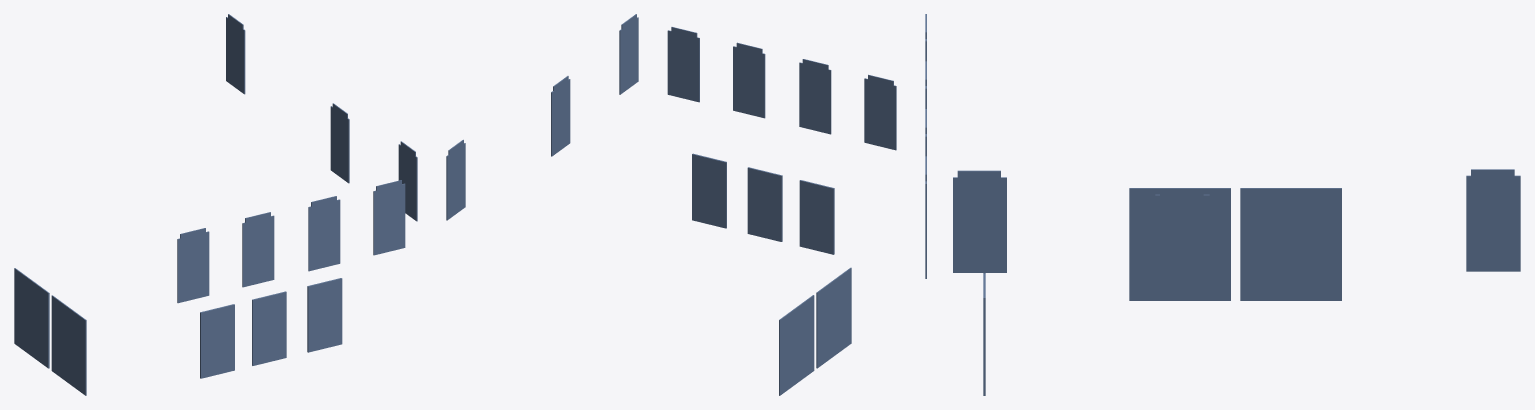
Rendered from Ventanas.obj.
The picture shows the model from 3 angles, left to right: view 1: azimuth 30°, elevation 25°; view 2: azimuth 150°, elevation 25°; view 3: azimuth 270°, elevation 25°; orthographic projection. The views are drawn at different scales.
Parts seen in each view (by area): view 1: Ventanas:polySurface73pCube9, Ventanas:polySurface76pCube8, Ventanas:polySurface254, Ventanas:polySurface254polySurface78, Ventanas:polySurface254polySurface14, Ventanas:polySurface84, Ventanas:polySurface17, Ventanas:polySurface85, Ventanas:polySurface83, Ventanas:polySurface87, Ventanas:polySurface88, Ventanas:polySurface86; view 2: Ventanas:polySurface76pCube8, Ventanas:polySurface73pCube9, Ventanas:polySurface254polySurface14, Ventanas:polySurface254polySurface78, Ventanas:polySurface254, Ventanas:polySurface83, Ventanas:polySurface84, Ventanas:polySurface85, Ventanas:polySurface17, Ventanas:polySurface86, Ventanas:polySurface87, Ventanas:polySurface88; view 3: Ventanas:polySurface73pCube9, Ventanas:polySurface76pCube8, Ventanas:polySurface88, Ventanas:polySurface87, Ventanas:polySurface86.
Part boxes in pixels (bbox=[...]): Ventanas:polySurface73pCube9: bbox=[14, 268, 49, 368]; Ventanas:polySurface76pCube8: bbox=[51, 295, 86, 395]; Ventanas:polySurface254: bbox=[307, 278, 342, 352]; Ventanas:polySurface254polySurface78: bbox=[252, 291, 286, 365]; Ventanas:polySurface254polySurface14: bbox=[200, 304, 234, 378]; Ventanas:polySurface84: bbox=[308, 196, 340, 271]; Ventanas:polySurface17: bbox=[177, 228, 209, 303]; Ventanas:polySurface85: bbox=[373, 180, 405, 255]; Ventanas:polySurface83: bbox=[242, 212, 274, 287]; Ventanas:polySurface87: bbox=[226, 14, 245, 94]; Ventanas:polySurface88: bbox=[330, 103, 349, 183]; Ventanas:polySurface86: bbox=[398, 141, 417, 221]; Ventanas:polySurface76pCube8: bbox=[816, 267, 851, 368]; Ventanas:polySurface73pCube9: bbox=[779, 295, 814, 395]; Ventanas:polySurface254polySurface14: bbox=[799, 180, 834, 254]; Ventanas:polySurface254polySurface78: bbox=[747, 167, 782, 241]; Ventanas:polySurface254: bbox=[692, 153, 726, 228]; Ventanas:polySurface83: bbox=[799, 59, 831, 134]; Ventanas:polySurface84: bbox=[733, 42, 765, 118]; Ventanas:polySurface85: bbox=[667, 27, 699, 102]; Ventanas:polySurface17: bbox=[864, 74, 896, 150]; Ventanas:polySurface86: bbox=[619, 14, 638, 94]; Ventanas:polySurface87: bbox=[446, 139, 465, 220]; Ventanas:polySurface88: bbox=[551, 76, 570, 156]; Ventanas:polySurface73pCube9: bbox=[1240, 188, 1341, 300]; Ventanas:polySurface76pCube8: bbox=[1129, 188, 1230, 300]; Ventanas:polySurface88: bbox=[1155, 188, 1209, 290]; Ventanas:polySurface87: bbox=[1466, 169, 1520, 271]; Ventanas:polySurface86: bbox=[953, 170, 1006, 272].
Bounding box in the file's own units: 33.32 × 25.78 × 42.32.
Materials: 2 (1 with a texture image).
